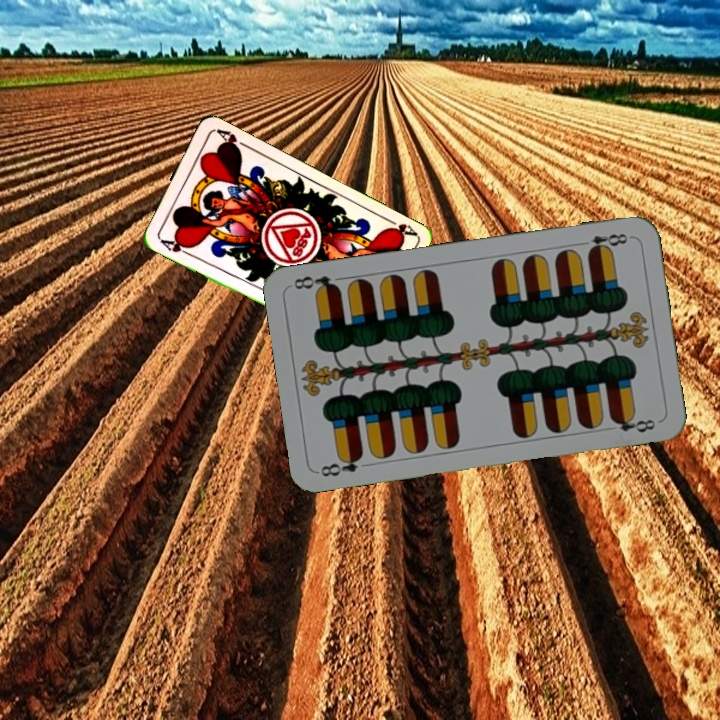E8: (574, 229, 634, 256), (316, 450, 366, 480)
HA: (379, 212, 417, 240), (155, 234, 196, 258)
